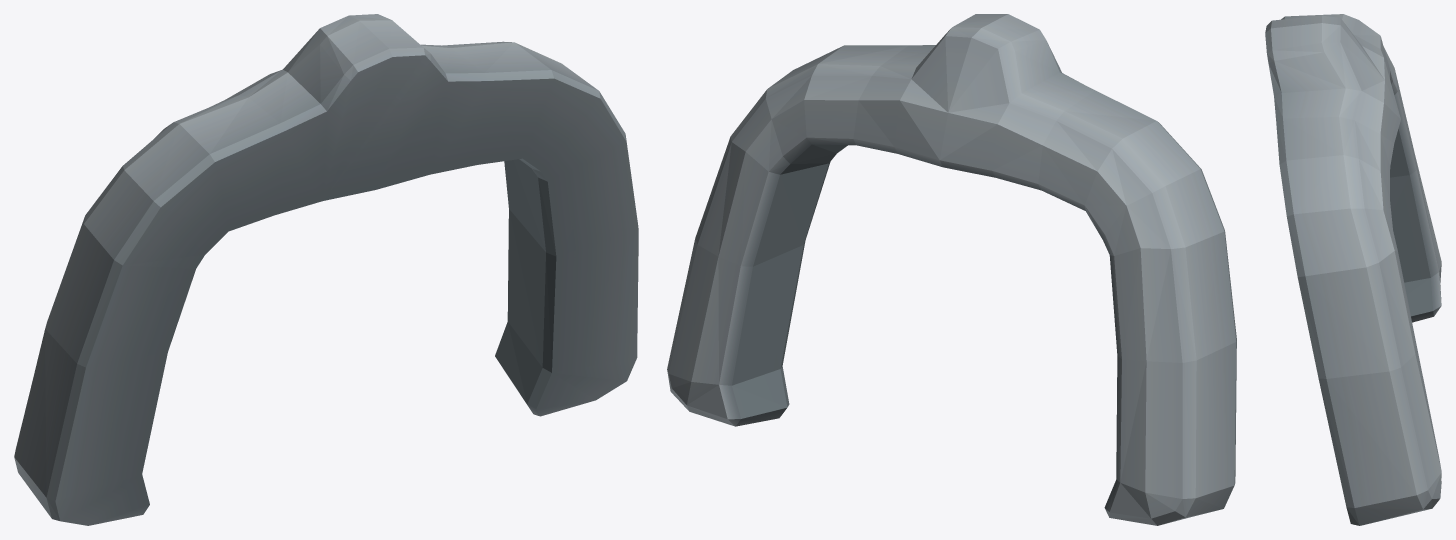
File: CharSkyNPC_Mask_FatLaborMask.glb
3 views of the same model, side by side, from view 1: azimuth 30°, elevation 25°; view 2: azimuth 150°, elevation 25°; view 3: azimuth 270°, elevation 25° (orthographic). The views are drawn at different scales.
Parts seen in each view (by area): view 1: CharSkyNPC_Mask_FatLaborMask; view 2: CharSkyNPC_Mask_FatLaborMask; view 3: CharSkyNPC_Mask_FatLaborMask.
Boxes of the visible parts, x1,y1,x2,y2 form: CharSkyNPC_Mask_FatLaborMask: (14,14,638,525); CharSkyNPC_Mask_FatLaborMask: (667,14,1236,525); CharSkyNPC_Mask_FatLaborMask: (1265,14,1441,525).
Size of the model in its own units: 2.62 by 1.95 by 0.7861.
1 material, 1 textured.
